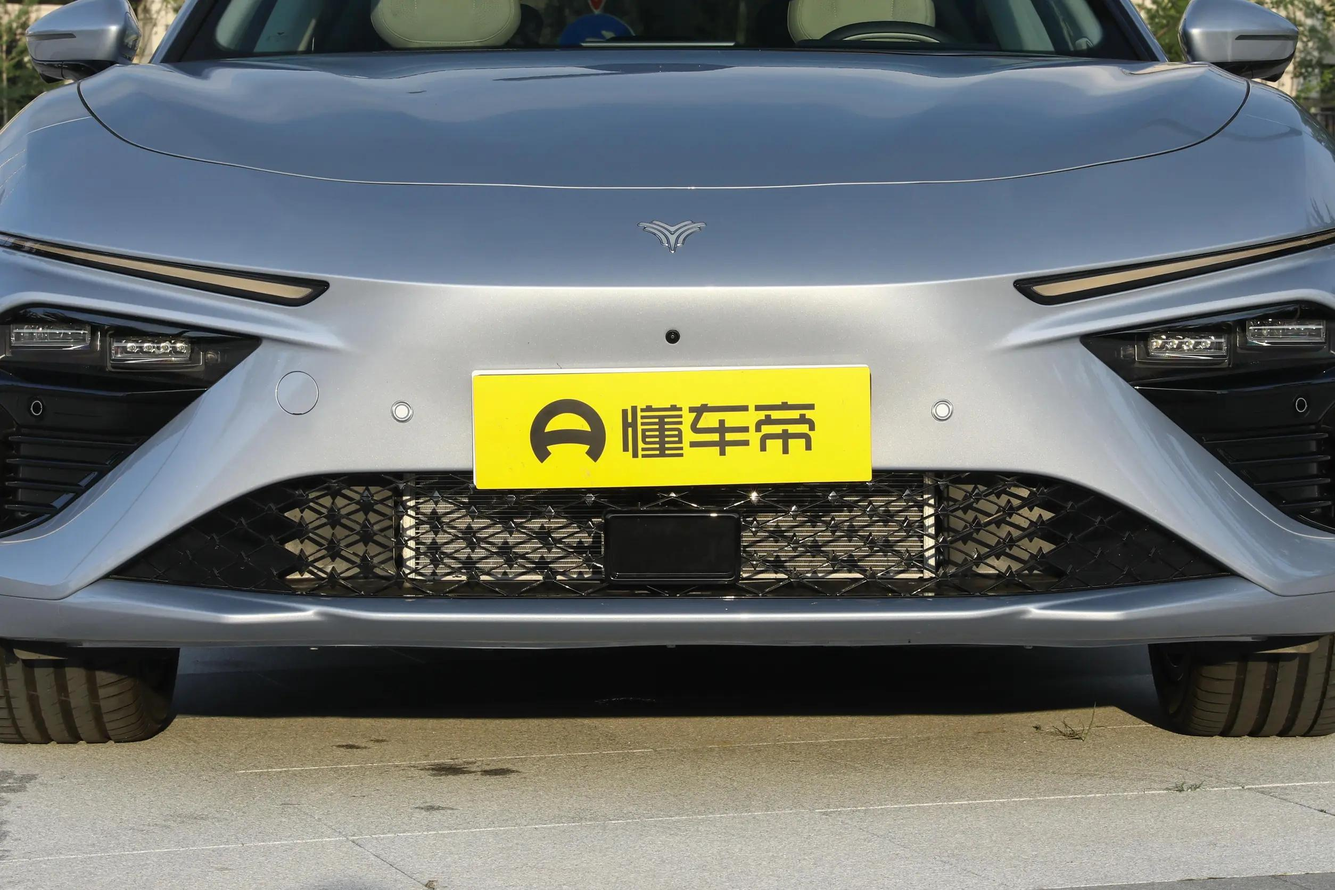NETA: (636, 220, 706, 254)
